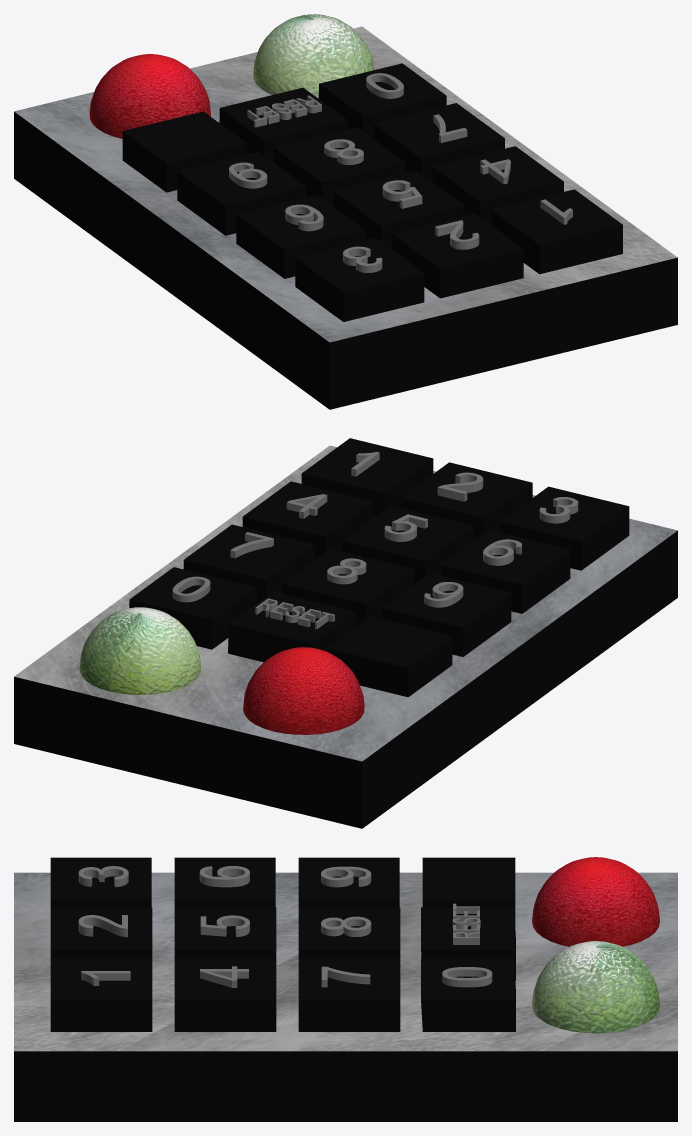
File: codelock1.fbx
The picture shows the model from 3 angles, top to bottom: view 1: azimuth 30°, elevation 25°; view 2: azimuth 150°, elevation 25°; view 3: azimuth 270°, elevation 25°; orthographic projection. The views are drawn at different scales.
Visible parts, largest first — view 1: Box002; view 2: Box002; view 3: Box002.
Boxes of the visible parts, left/top/right/bottom form: Box002: left=14, top=14, right=677, bottom=409; Box002: left=14, top=438, right=677, bottom=828; Box002: left=14, top=857, right=677, bottom=1121.
Bounding box in the file's own units: 138 × 216 × 46.8.
